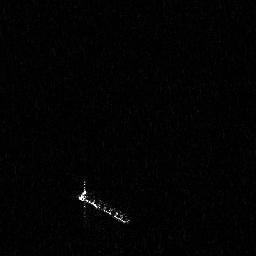ship: (73, 176, 133, 226)
